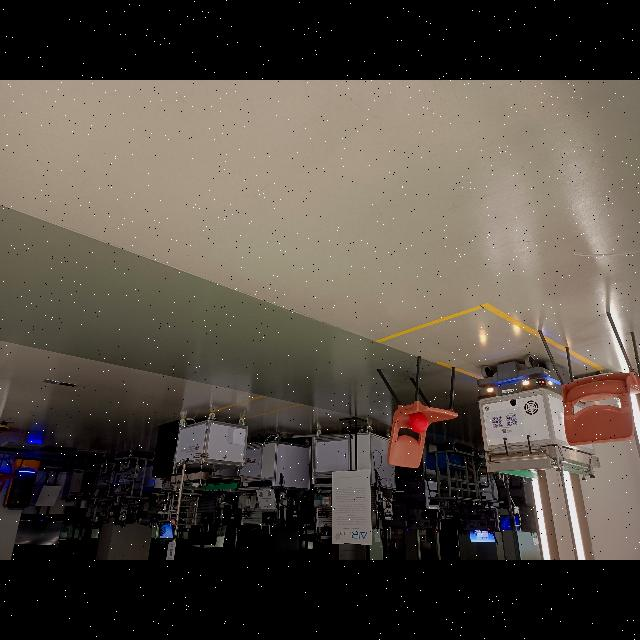R: (409, 412, 428, 433)
